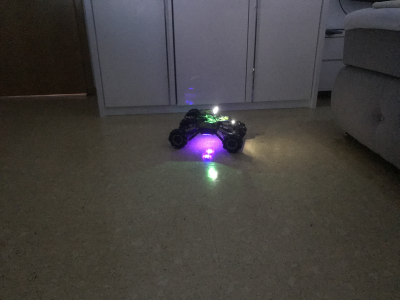remote control car: (165, 99, 248, 153)
